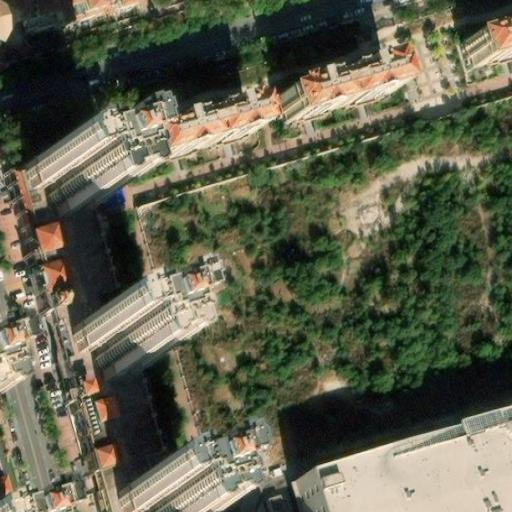building: (15, 163, 164, 512), (298, 410, 511, 512), (281, 64, 400, 126), (152, 99, 271, 161), (64, 295, 145, 372), (27, 144, 102, 215), (2, 0, 139, 26), (119, 469, 194, 512), (460, 23, 512, 72), (44, 480, 80, 512), (262, 494, 294, 512), (43, 151, 75, 165)
